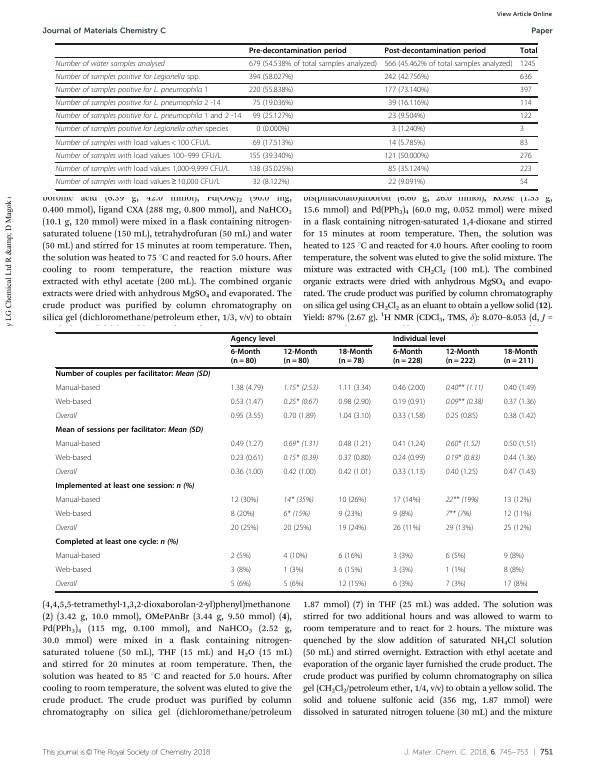borderless: (54, 331, 537, 591), (55, 42, 537, 189)
cell: (55, 164, 231, 174), (55, 112, 242, 121), (55, 151, 222, 161), (55, 98, 221, 108), (55, 177, 221, 187), (55, 125, 229, 134), (55, 370, 211, 380), (55, 85, 209, 95), (55, 426, 204, 436), (55, 72, 201, 82), (55, 138, 211, 147), (55, 482, 195, 492), (248, 59, 378, 69), (383, 59, 513, 69), (55, 538, 179, 548), (55, 59, 166, 69), (383, 46, 487, 55), (248, 46, 347, 55), (283, 348, 318, 367), (338, 348, 373, 367), (445, 348, 480, 367), (503, 348, 538, 367), (392, 348, 424, 367), (230, 348, 261, 367), (392, 335, 447, 344), (383, 72, 430, 82), (383, 85, 430, 95), (383, 151, 430, 161), (248, 72, 294, 82), (248, 85, 294, 95), (248, 151, 294, 161), (248, 164, 294, 174), (387, 98, 430, 108), (387, 164, 430, 174), (252, 98, 294, 108), (230, 335, 276, 344), (55, 384, 101, 393), (55, 440, 101, 449), (55, 496, 101, 505), (55, 552, 101, 561), (387, 177, 426, 187), (252, 177, 290, 187), (252, 112, 294, 121), (252, 138, 294, 147), (387, 112, 426, 121), (387, 138, 426, 147), (445, 384, 484, 393), (445, 398, 484, 407), (55, 398, 92, 407), (55, 454, 92, 463), (55, 510, 92, 519), (55, 566, 92, 575), (283, 384, 319, 393), (283, 398, 319, 407), (283, 440, 319, 449), (445, 440, 481, 449), (283, 454, 319, 463), (445, 454, 481, 463), (255, 125, 290, 134), (391, 125, 426, 134), (445, 496, 480, 505), (230, 384, 264, 393), (338, 384, 372, 393), (392, 384, 426, 393), (503, 384, 537, 393), (230, 398, 264, 407), (338, 398, 372, 407), (392, 398, 426, 407), (503, 398, 537, 407), (230, 412, 264, 421), (283, 412, 317, 421), (338, 412, 372, 421), (392, 412, 426, 421), (445, 412, 479, 421), (503, 412, 537, 421), (230, 440, 264, 449), (338, 440, 372, 449), (392, 440, 426, 449), (503, 440, 537, 449), (230, 454, 264, 463), (338, 454, 372, 463), (392, 454, 426, 463), (503, 454, 537, 463), (230, 468, 264, 477), (283, 468, 317, 477), (338, 468, 372, 477), (392, 468, 426, 477), (445, 468, 479, 477), (503, 468, 537, 477), (283, 496, 314, 505), (392, 496, 422, 505), (392, 524, 422, 533), (230, 496, 259, 505), (338, 496, 367, 505), (503, 496, 532, 505), (503, 510, 532, 519), (230, 524, 259, 533), (283, 524, 312, 533), (338, 524, 367, 533), (445, 524, 474, 533), (503, 524, 532, 533), (338, 580, 367, 589), (283, 510, 311, 519), (445, 510, 472, 519), (230, 510, 256, 519), (503, 580, 529, 589), (338, 510, 363, 519), (283, 552, 308, 561), (338, 552, 363, 561), (338, 566, 363, 575), (55, 412, 78, 421), (55, 468, 78, 477), (55, 524, 78, 533), (55, 580, 78, 589), (392, 510, 414, 519), (230, 552, 252, 561), (392, 552, 414, 561), (445, 552, 467, 561), (503, 552, 525, 561), (230, 566, 252, 575), (283, 566, 305, 575), (392, 566, 414, 575), (445, 566, 467, 575), (503, 566, 525, 575), (230, 580, 252, 589), (283, 580, 305, 589), (392, 580, 414, 589), (445, 580, 467, 589), (519, 46, 538, 55), (519, 59, 536, 69), (519, 72, 533, 82), (519, 85, 533, 95), (519, 98, 533, 108), (519, 151, 533, 161), (519, 164, 533, 174), (519, 112, 533, 121), (519, 177, 529, 187), (519, 138, 529, 147), (519, 125, 525, 134)
